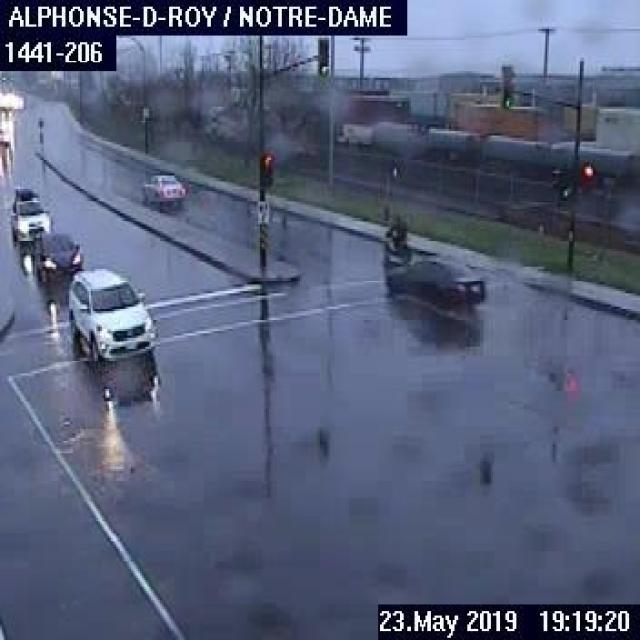vehicle: (61, 264, 156, 362), (382, 256, 487, 312), (30, 226, 84, 284), (7, 188, 51, 244), (378, 212, 414, 270), (140, 169, 185, 204)
